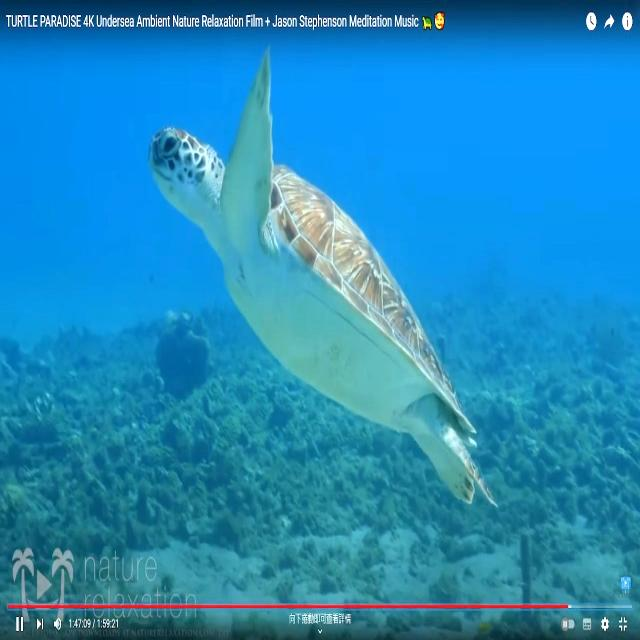Sea turtle: (147, 45, 500, 518)
